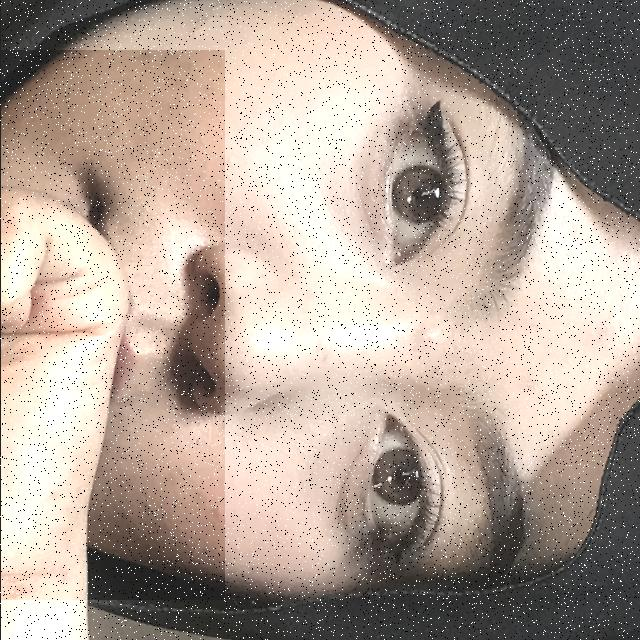sedih: (0, 50, 224, 600)
